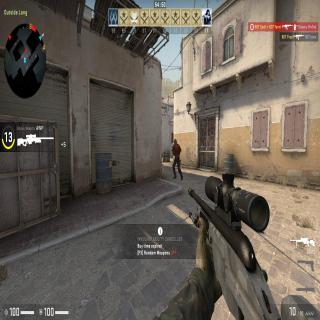T-Body: (172, 138, 182, 181)
T-Head: (174, 139, 178, 145)
